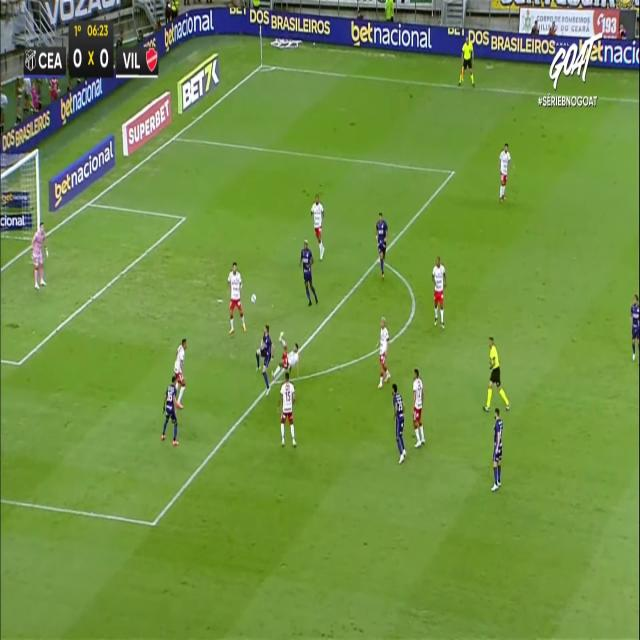ball: (247, 290, 259, 309)
goalkeeper: (31, 221, 49, 289)
player: (271, 326, 301, 386), (161, 375, 183, 446), (277, 371, 297, 446), (253, 318, 272, 393), (227, 262, 246, 335), (300, 238, 318, 306), (392, 382, 406, 464), (412, 367, 426, 447), (432, 255, 446, 329), (377, 316, 391, 389), (491, 407, 503, 491), (173, 337, 187, 408), (310, 193, 324, 260), (375, 212, 387, 279), (499, 142, 511, 201)
referee: (482, 336, 510, 411), (458, 36, 475, 86)
